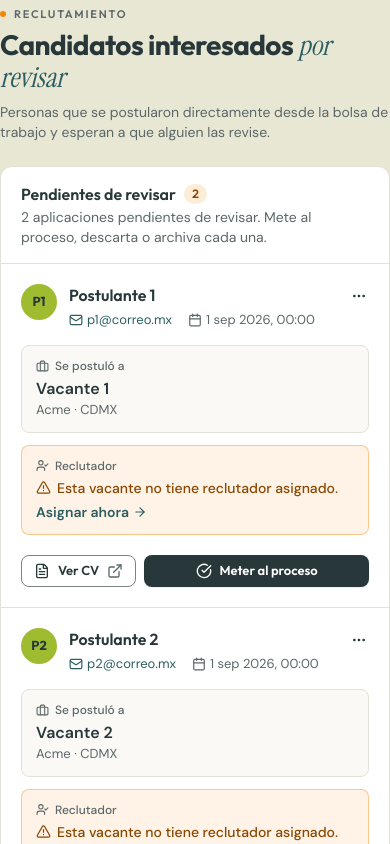
Test: /admin/direct-applications: decisiones en el móvil › «…» ofrece Descartar y Archivar; Descartar confirma y hace el PUT de siempre
Expected: the heading "Postulante 1" is shown, [69,285,155,305]
Click the button named "Más decisiones sobre Postulante 1" at (359, 296), box [343,280,375,312]
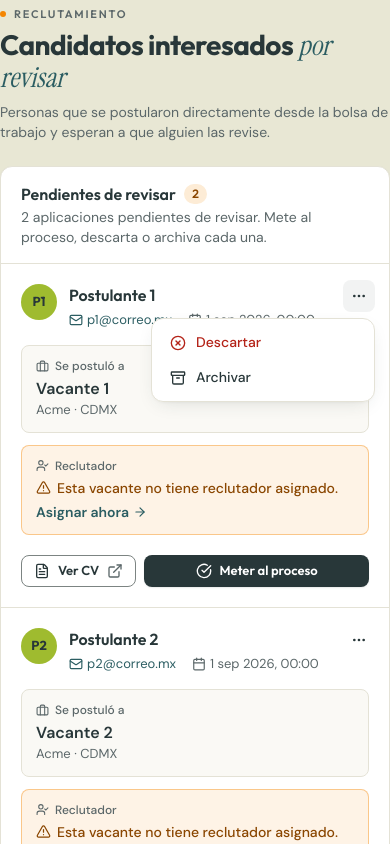
Expected: the menu items read "Descartar", "Archivar", in this order
Click the menu item "Descartar" at (263, 342), box [158,325,368,360]
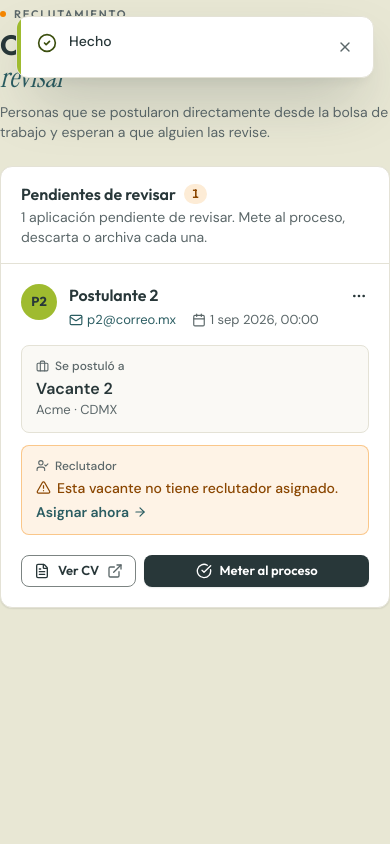
Expected: the heading "Postulante 1" is gone
